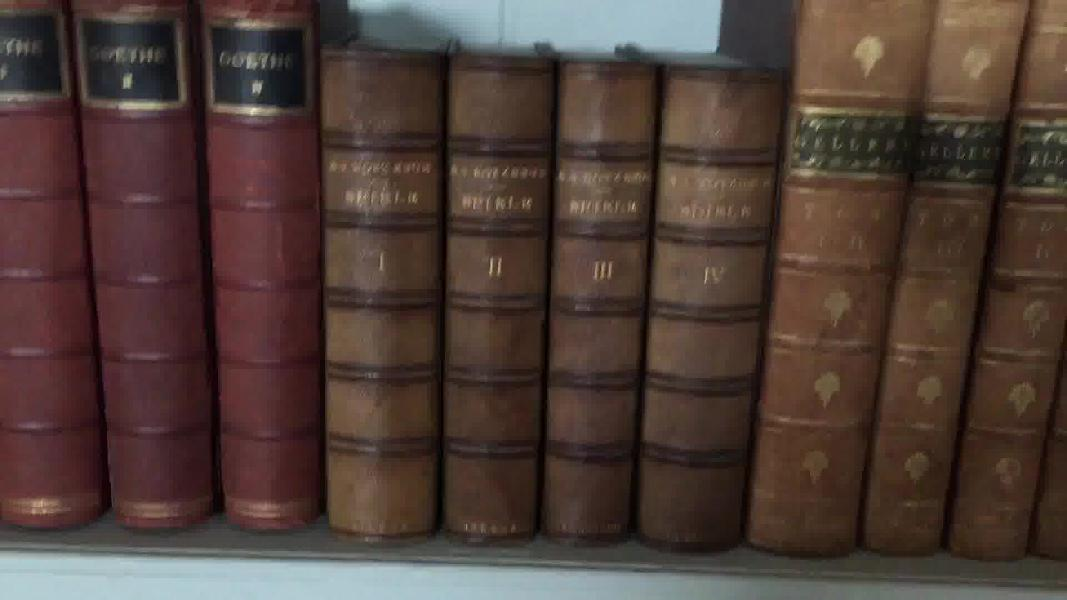Aa6-11_13: (4, 5, 329, 534)
Aa6-14_17: (315, 23, 783, 570)
